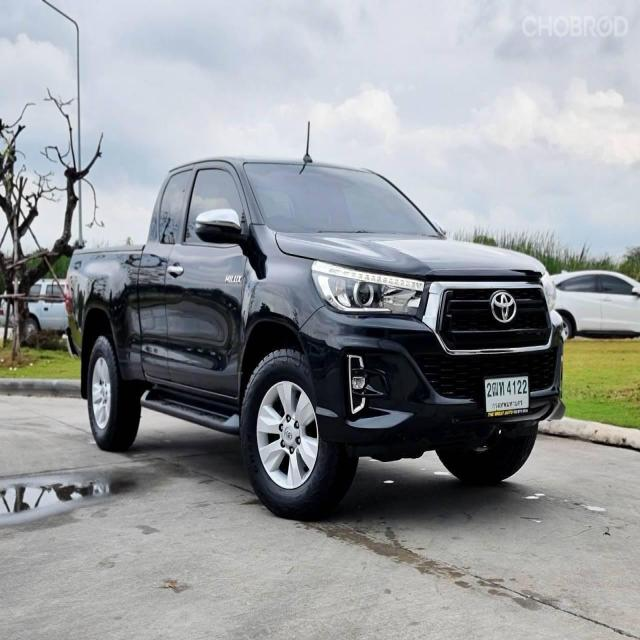license_plate: (482, 369, 535, 424)
